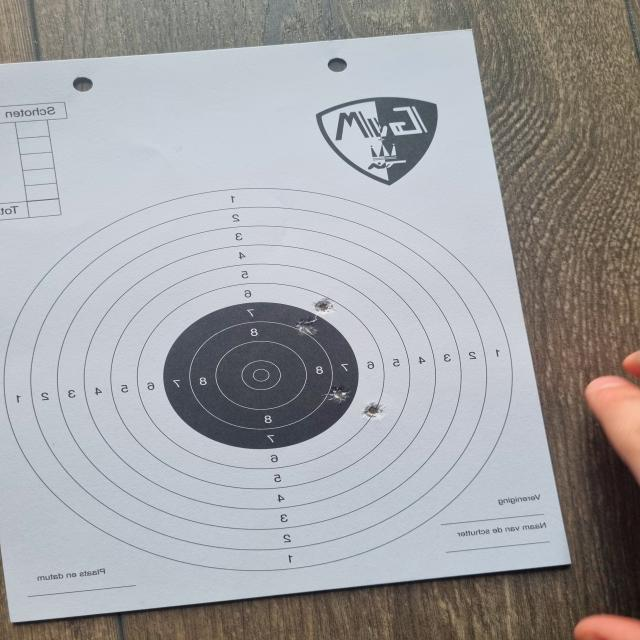6: (362, 402, 386, 419), (314, 299, 338, 313)
8: (322, 386, 352, 403), (295, 315, 318, 335)
Target: (5, 186, 509, 573)
black_contour: (163, 302, 358, 449)
